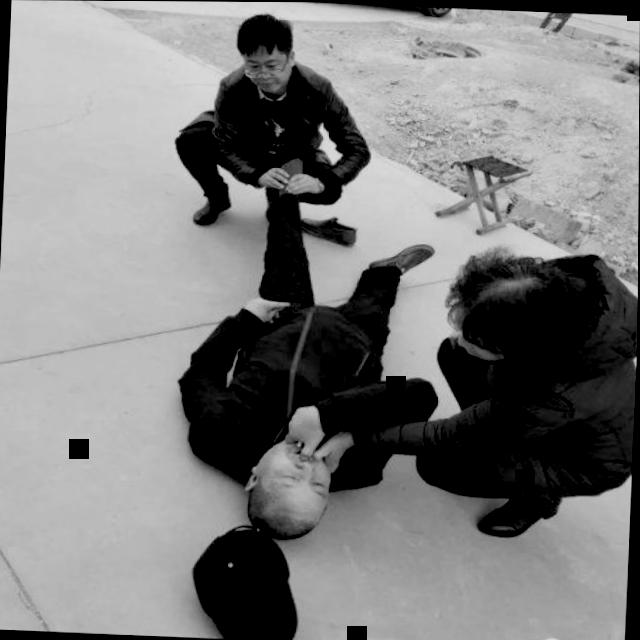Fall-Detected: (147, 171, 447, 549)
